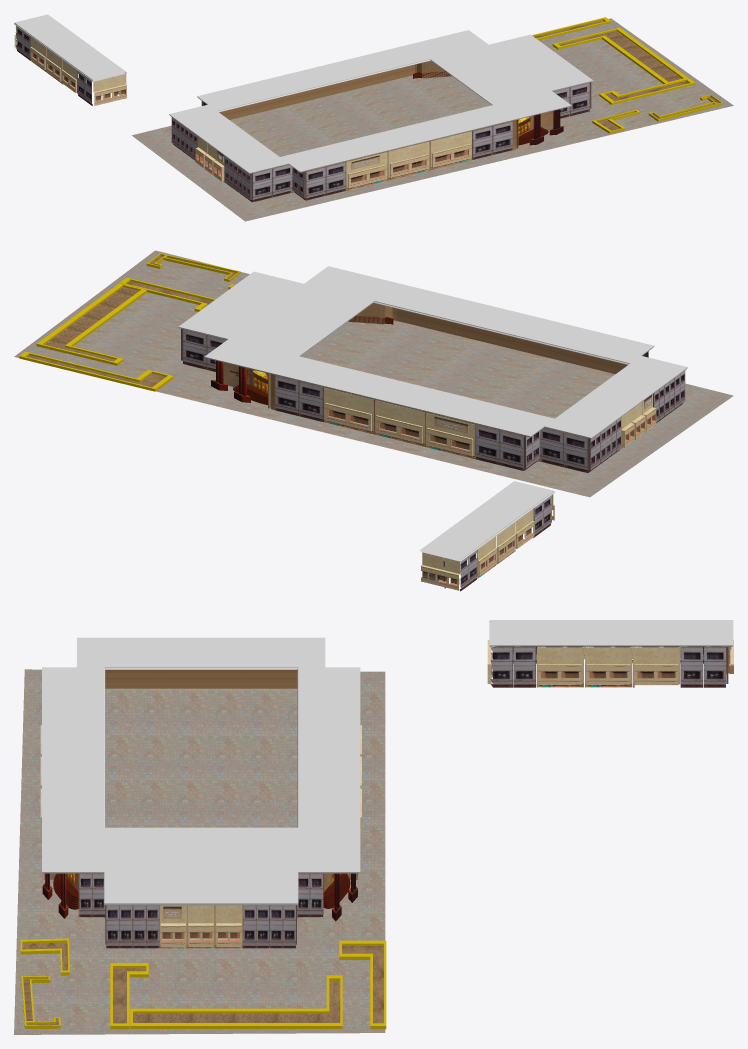
Rendered from GENERATOR-dom_BckfaceCullingSolved.glb.
3 views of the same model, one above another, from view 1: azimuth 30°, elevation 25°; view 2: azimuth 150°, elevation 25°; view 3: azimuth 270°, elevation 25° (orthographic). The views are drawn at different scales.
Visible parts, largest first — view 1: Plane.002, Plane.014; view 2: Plane.002, Plane.014; view 3: Plane.002, Plane.014.
Part boxes in pixels (x1,y1,x2,y2): Plane.002: (132, 17, 733, 221); Plane.014: (14, 14, 126, 105); Plane.002: (14, 250, 733, 497); Plane.014: (419, 481, 555, 591); Plane.002: (14, 637, 386, 1034); Plane.014: (487, 620, 733, 687).
Size of the model in its own units: 118 by 7.25 by 97.6.
13 materials, 9 textured.
